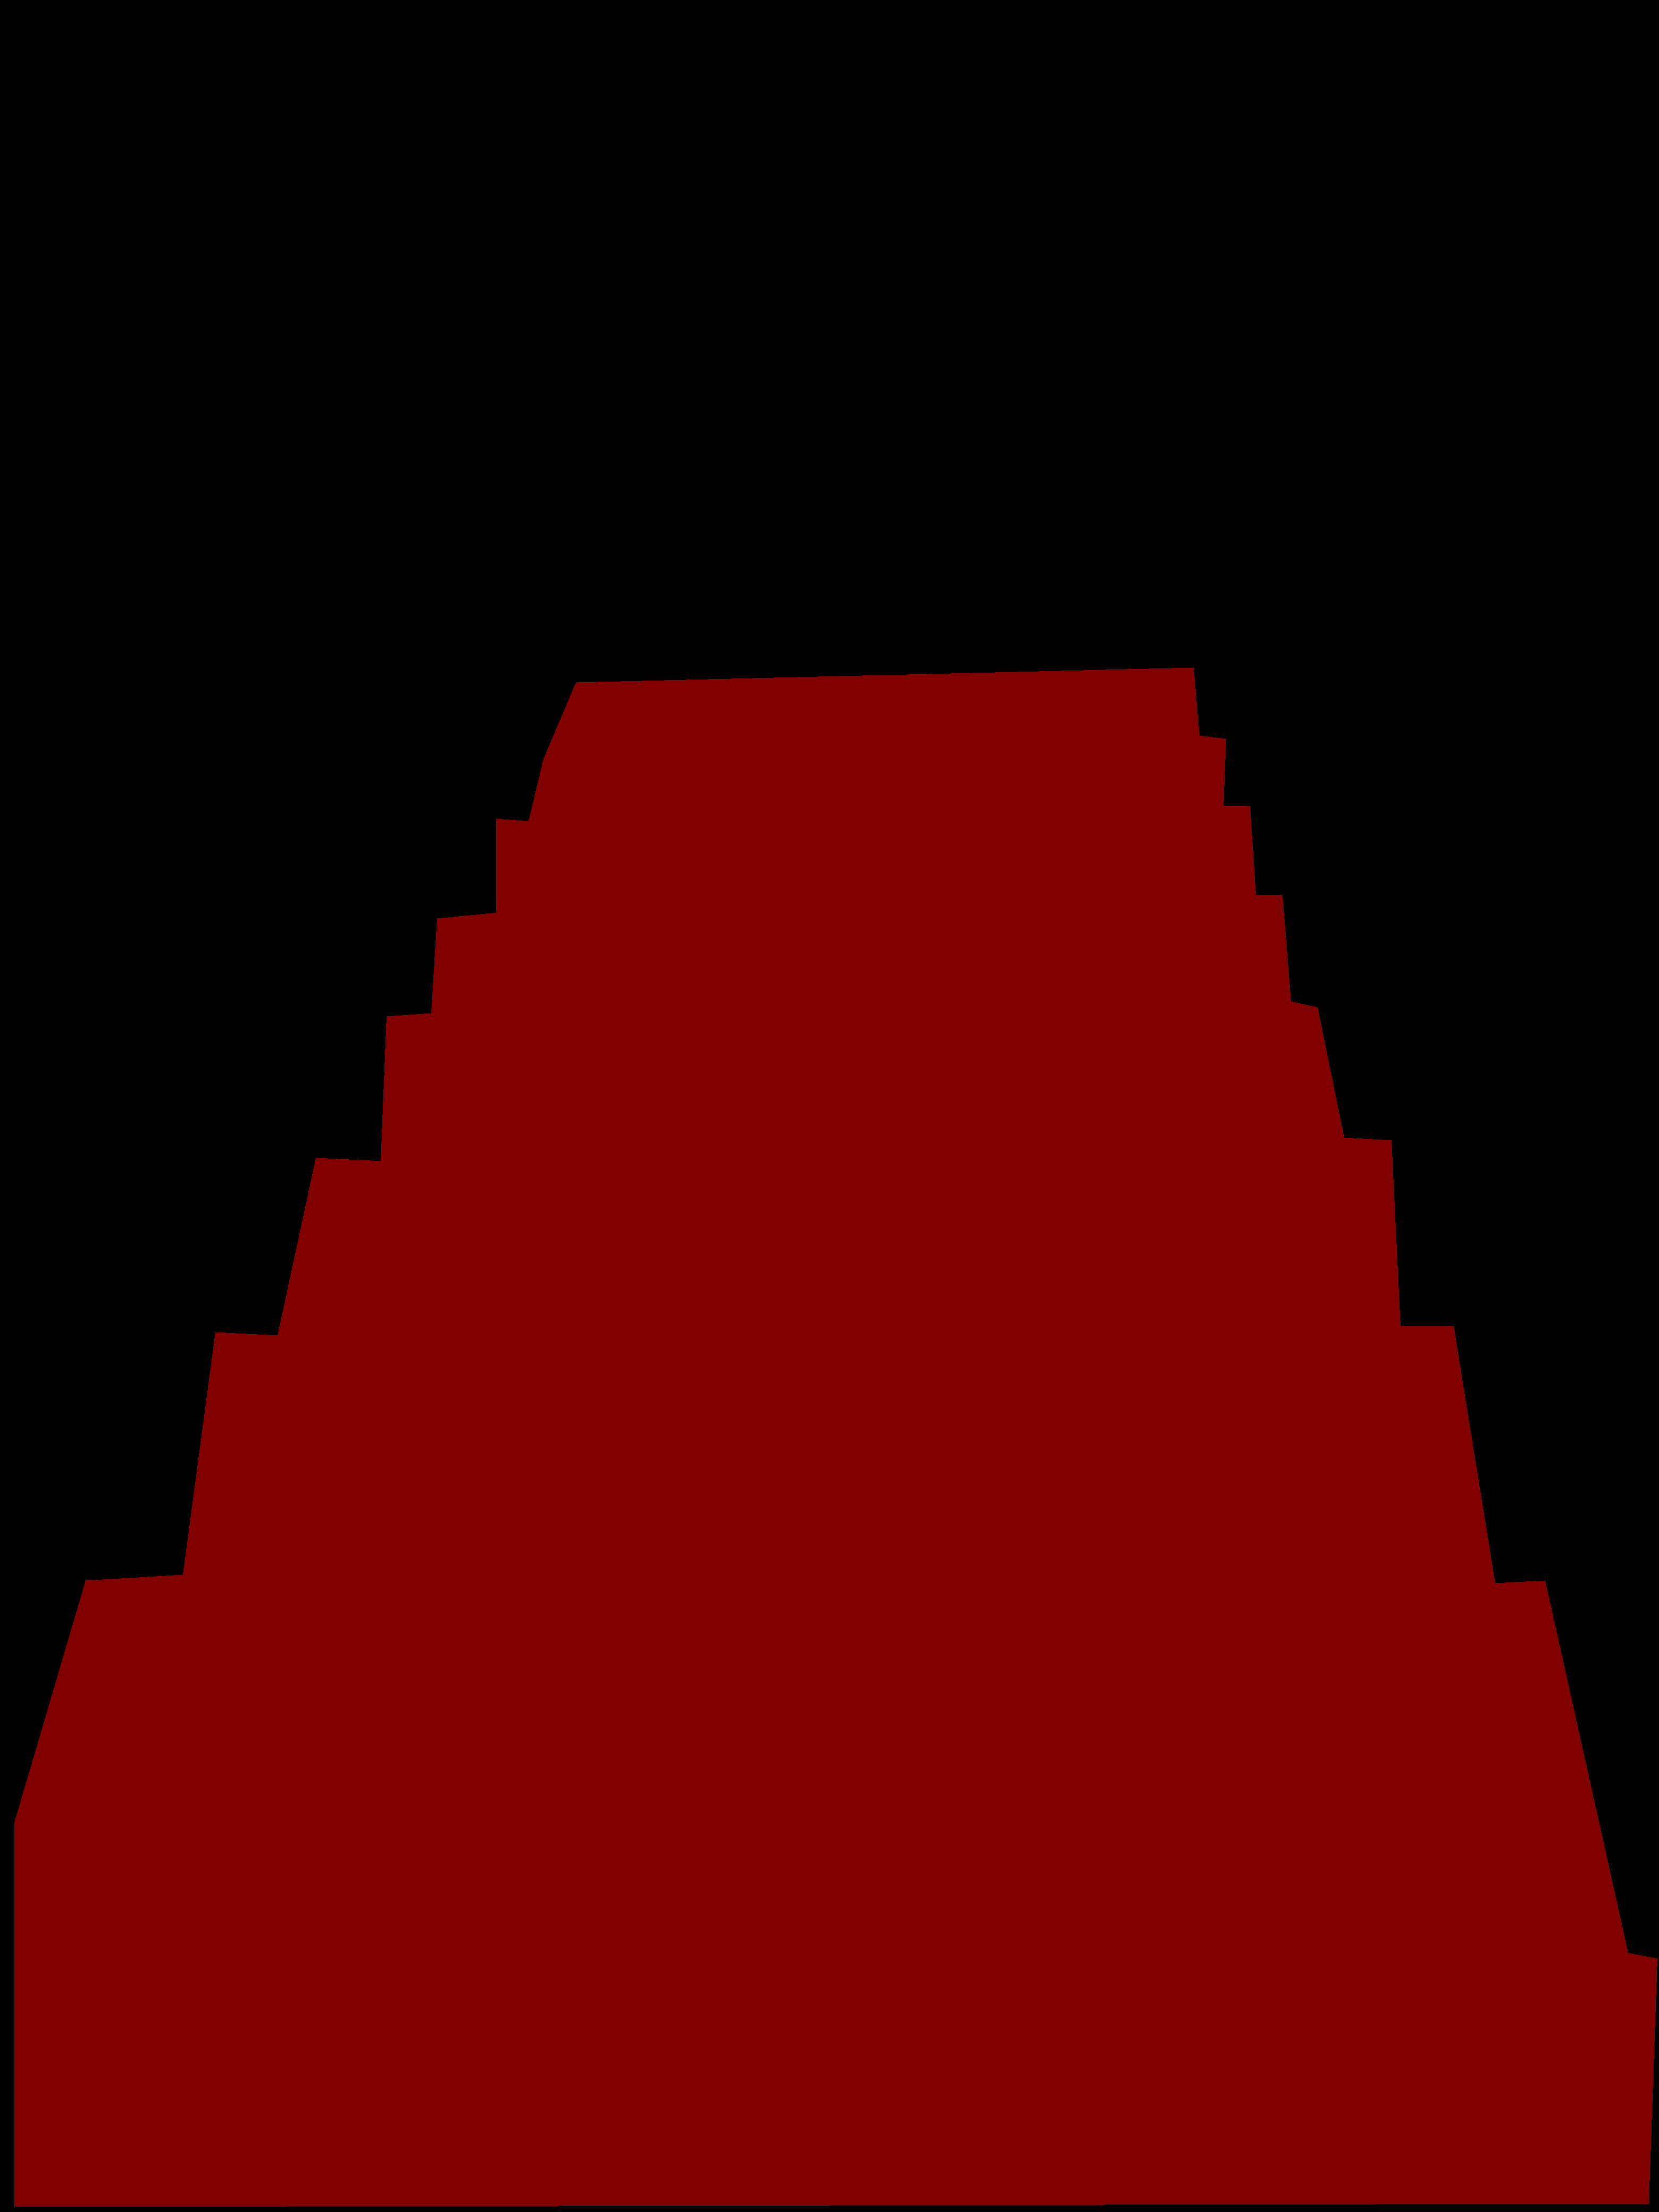stair: (14, 667, 1657, 2207)
